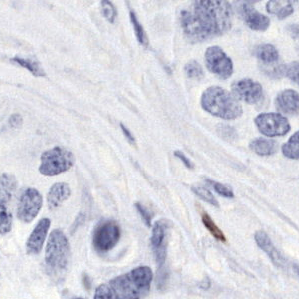Lymphocyte: (199, 208, 231, 242)
